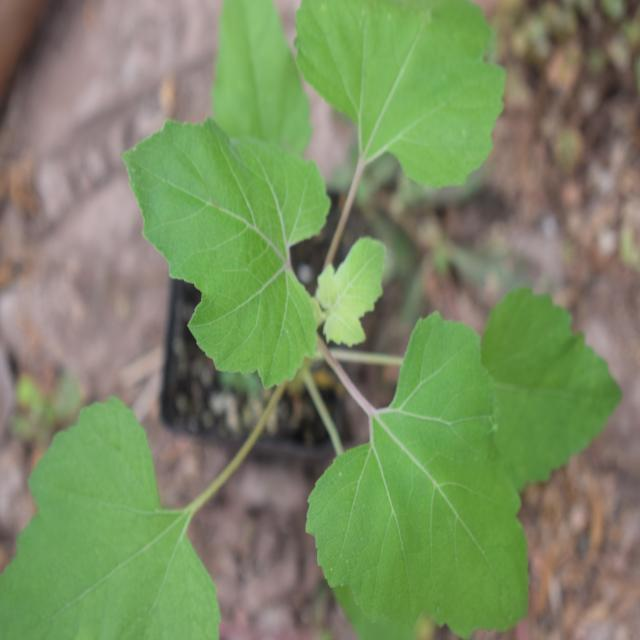cocklebur: (26, 19, 564, 616)
